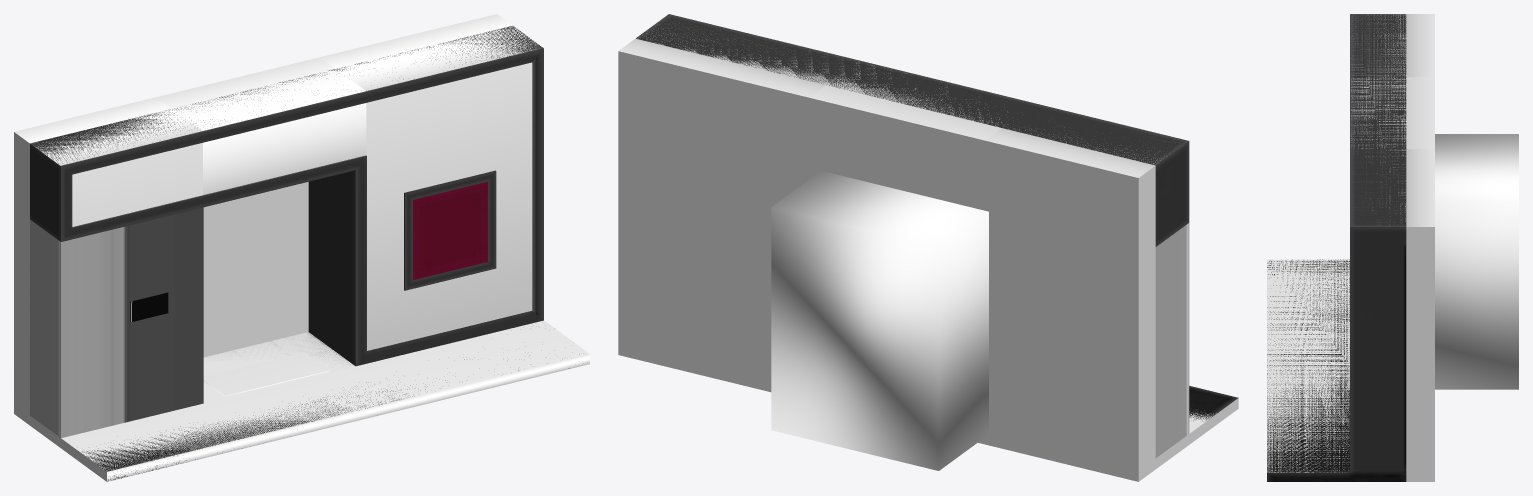
Rendered from objects_un_shoppingselect02.gltf.
3 views of the same model, side by side, from view 1: azimuth 30°, elevation 25°; view 2: azimuth 150°, elevation 25°; view 3: azimuth 270°, elevation 25° (orthographic). The views are drawn at different scales.
Parts seen in each view (by area): view 1: um_objects_un_shoppingselect02_model_lod0Shape:objects_un_sh (×4), um_objects_un_shoppingselect02_model_lod1Shape:objects_un_sh, um_objects_un_shoppingselect02_model_lod2Shape:objects_un_sh; view 2: um_objects_un_shoppingselect02_model_lod0Shape:objects_un_sh (×2), nomerge_objects_un_shoppingselect02_inside01_shape:objects_u; view 3: um_objects_un_shoppingselect02_model_lod0Shape:objects_un_sh (×2), nomerge_objects_un_shoppingselect02_inside01_shape:objects_u.
Boxes of the visible parts, <box> form: um_objects_un_shoppingselect02_model_lod0Shape:objects_un_sh (×4): <box>14,14,589,481</box>; um_objects_un_shoppingselect02_model_lod1Shape:objects_un_sh: <box>60,170,494,438</box>; um_objects_un_shoppingselect02_model_lod2Shape:objects_un_sh: <box>413,181,487,279</box>; um_objects_un_shoppingselect02_model_lod0Shape:objects_un_sh (×2): <box>618,14,1238,481</box>; nomerge_objects_un_shoppingselect02_inside01_shape:objects_u: <box>771,171,988,470</box>; um_objects_un_shoppingselect02_model_lod0Shape:objects_un_sh (×2): <box>1267,14,1434,481</box>; nomerge_objects_un_shoppingselect02_inside01_shape:objects_u: <box>1435,134,1518,389</box>.
Size of what is drawn, in the model's own units: 7 by 3.91 by 3.5.
Materials: 9 (6 with a texture image).
